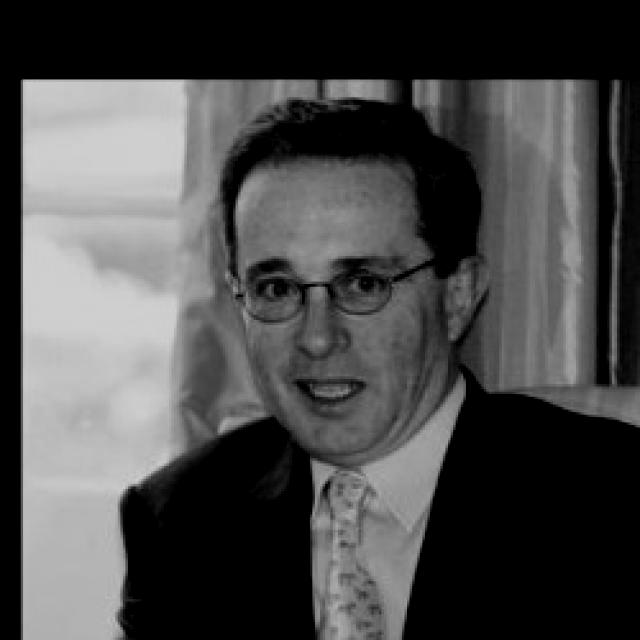real: (232, 158, 436, 461), (236, 257, 395, 324)
